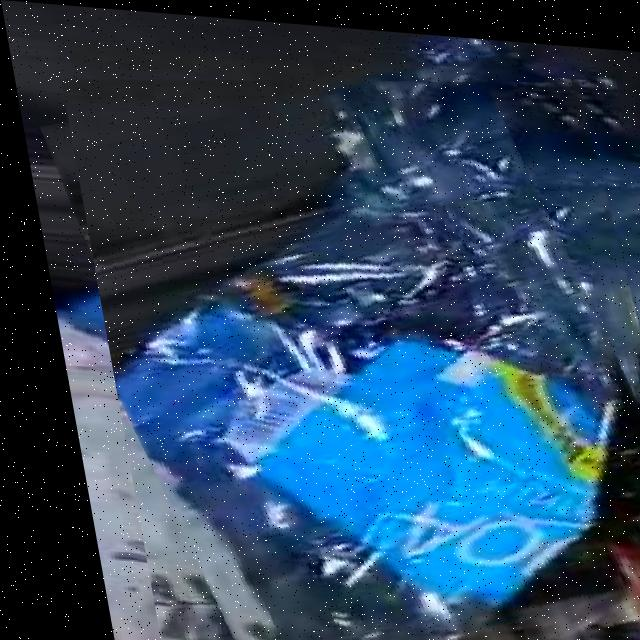plasticbottle: (52, 39, 640, 640)
